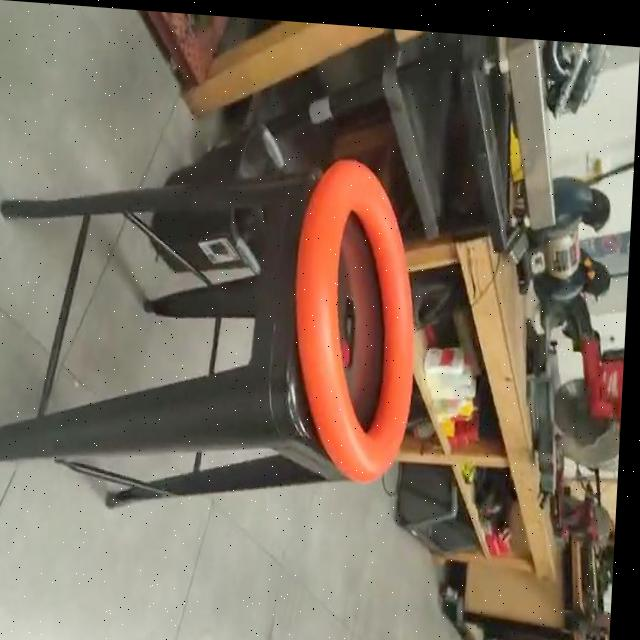note: (288, 149, 427, 484)
